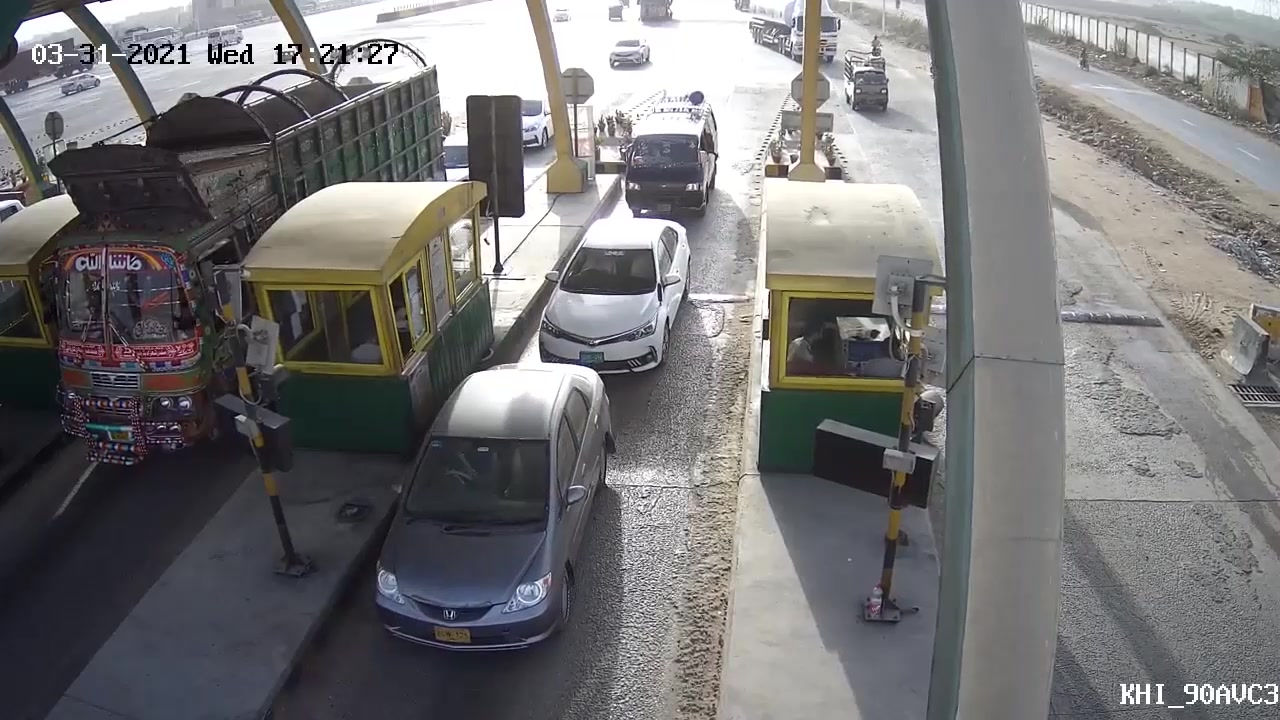F1: (365, 361, 613, 666), (523, 202, 697, 383)
